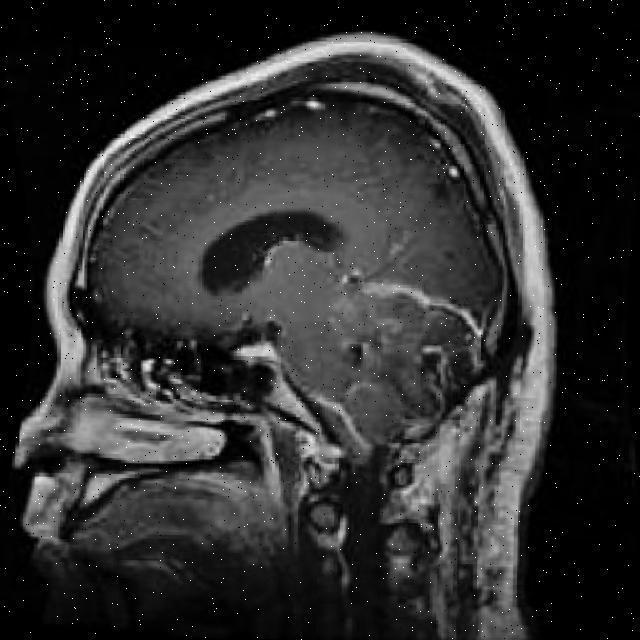EMCI: (339, 266, 504, 381)
